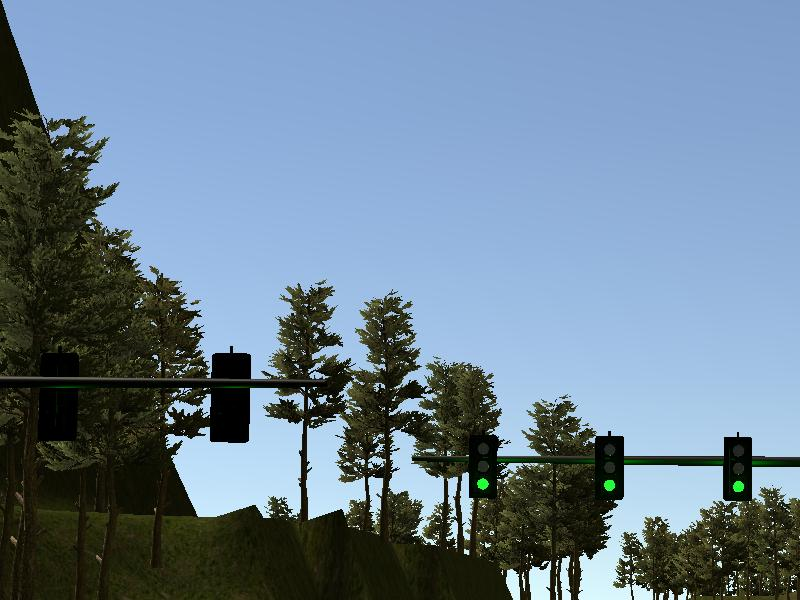Green: (725, 435, 753, 502), (596, 435, 625, 499), (469, 436, 495, 498)
